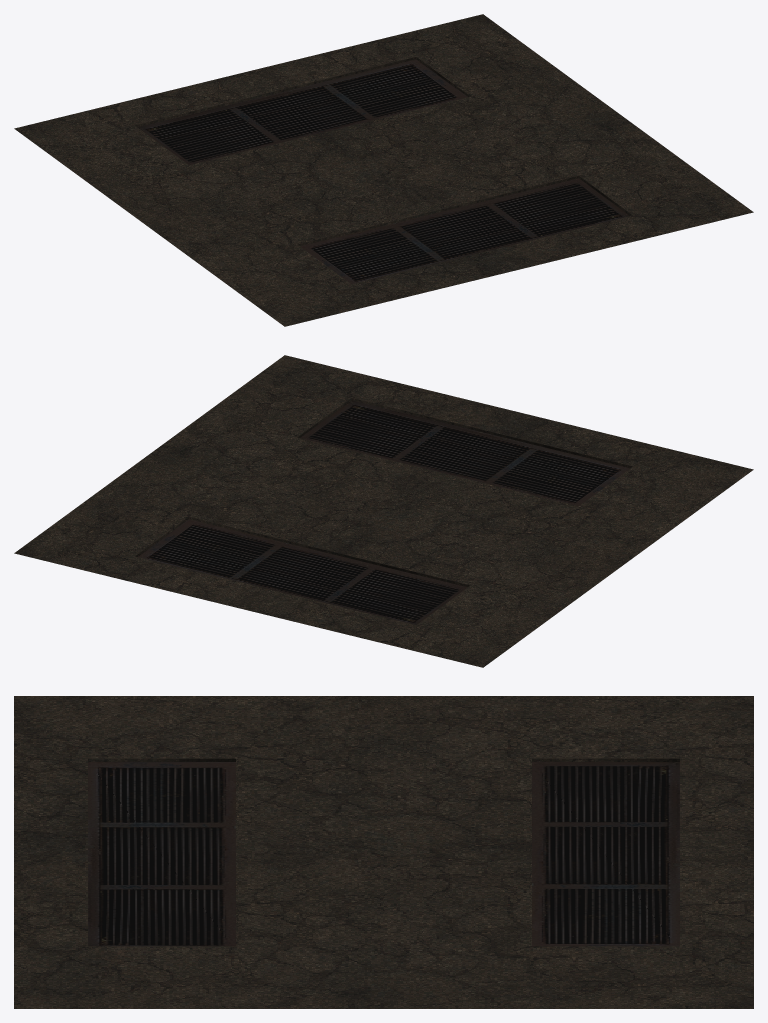
Rendered from asphalt_hr_3.glb.
3 renders of one model, top to bottom at view 1: azimuth 30°, elevation 25°; view 2: azimuth 150°, elevation 25°; view 3: azimuth 270°, elevation 25°, orthographic. The views are drawn at different scales.
Parts seen in each view (by area): view 1: asphalt_hr_3; view 2: asphalt_hr_3; view 3: asphalt_hr_3.
Boxes of the visible parts, x1,y1,x2,y2 form: asphalt_hr_3: [14, 14, 753, 326]; asphalt_hr_3: [14, 355, 753, 667]; asphalt_hr_3: [14, 696, 753, 1008].
Size of the model in its own units: 4 by 0.02 by 4.
Materials: 2 (2 with a texture image).
